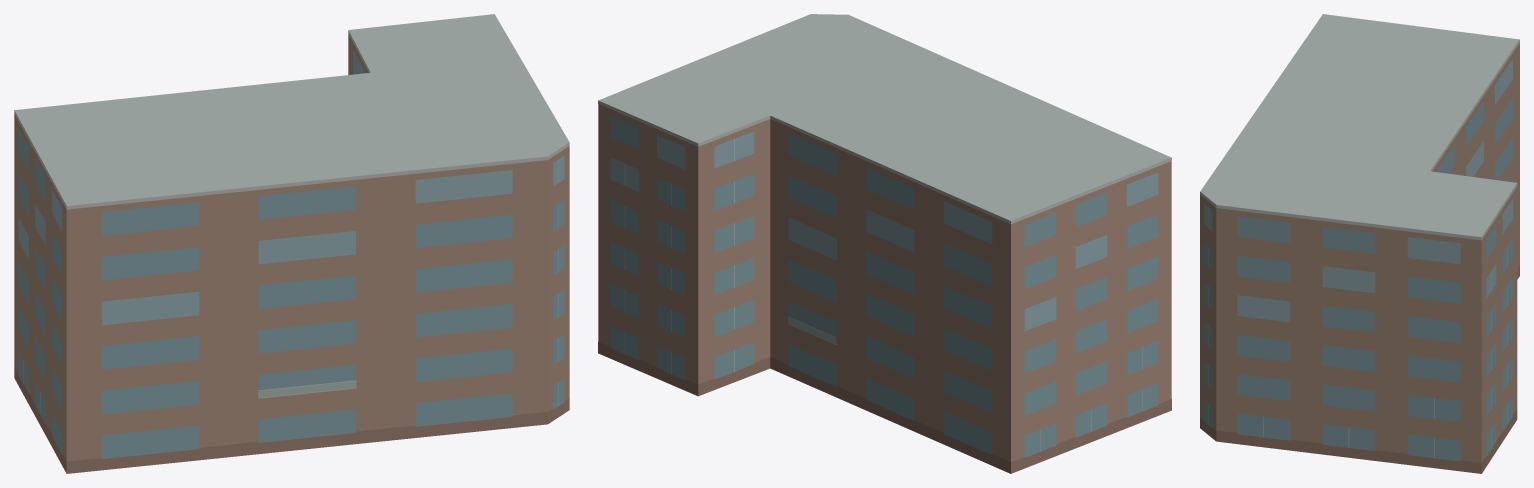
The model's file is survey-upis-32872545.glb.
3 renders of one model, left to right at view 1: azimuth 30°, elevation 25°; view 2: azimuth 150°, elevation 25°; view 3: azimuth 270°, elevation 25°, orthographic. The views are drawn at different scales.
Parts seen in each view (by area): view 1: survey-upis-32872545.tmp; view 2: survey-upis-32872545.tmp; view 3: survey-upis-32872545.tmp.
Boxes of the visible parts, x1,y1,x2,y2 form: survey-upis-32872545.tmp: (14,14,569,473); survey-upis-32872545.tmp: (598,14,1171,473); survey-upis-32872545.tmp: (1200,14,1519,473).
Bounding box in the file's own units: 36.83 × 18.2 × 22.29.
